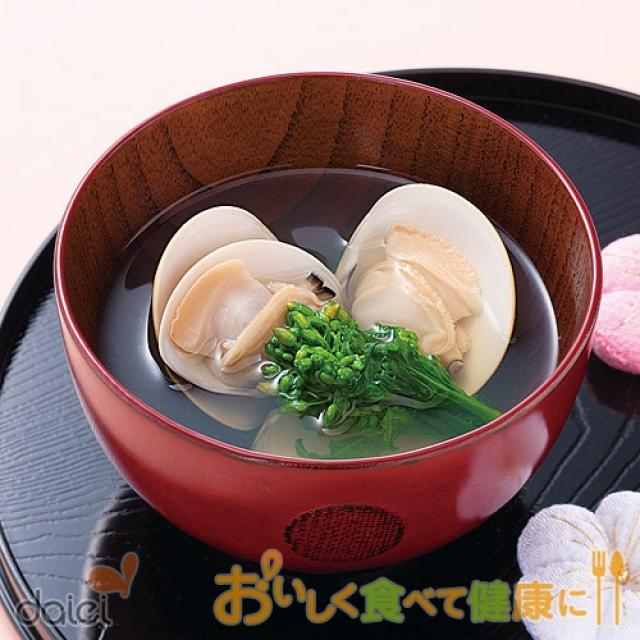汤锅炖物: (58, 58, 609, 508)
